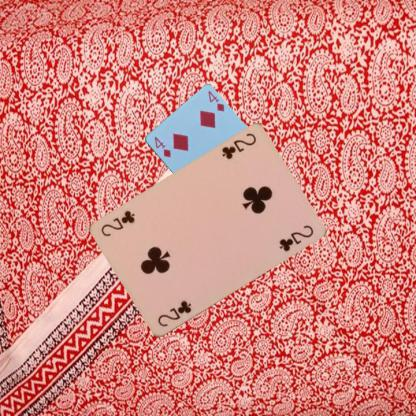2c: (219, 131, 258, 161), (155, 298, 192, 329)
4d: (151, 133, 173, 159)
